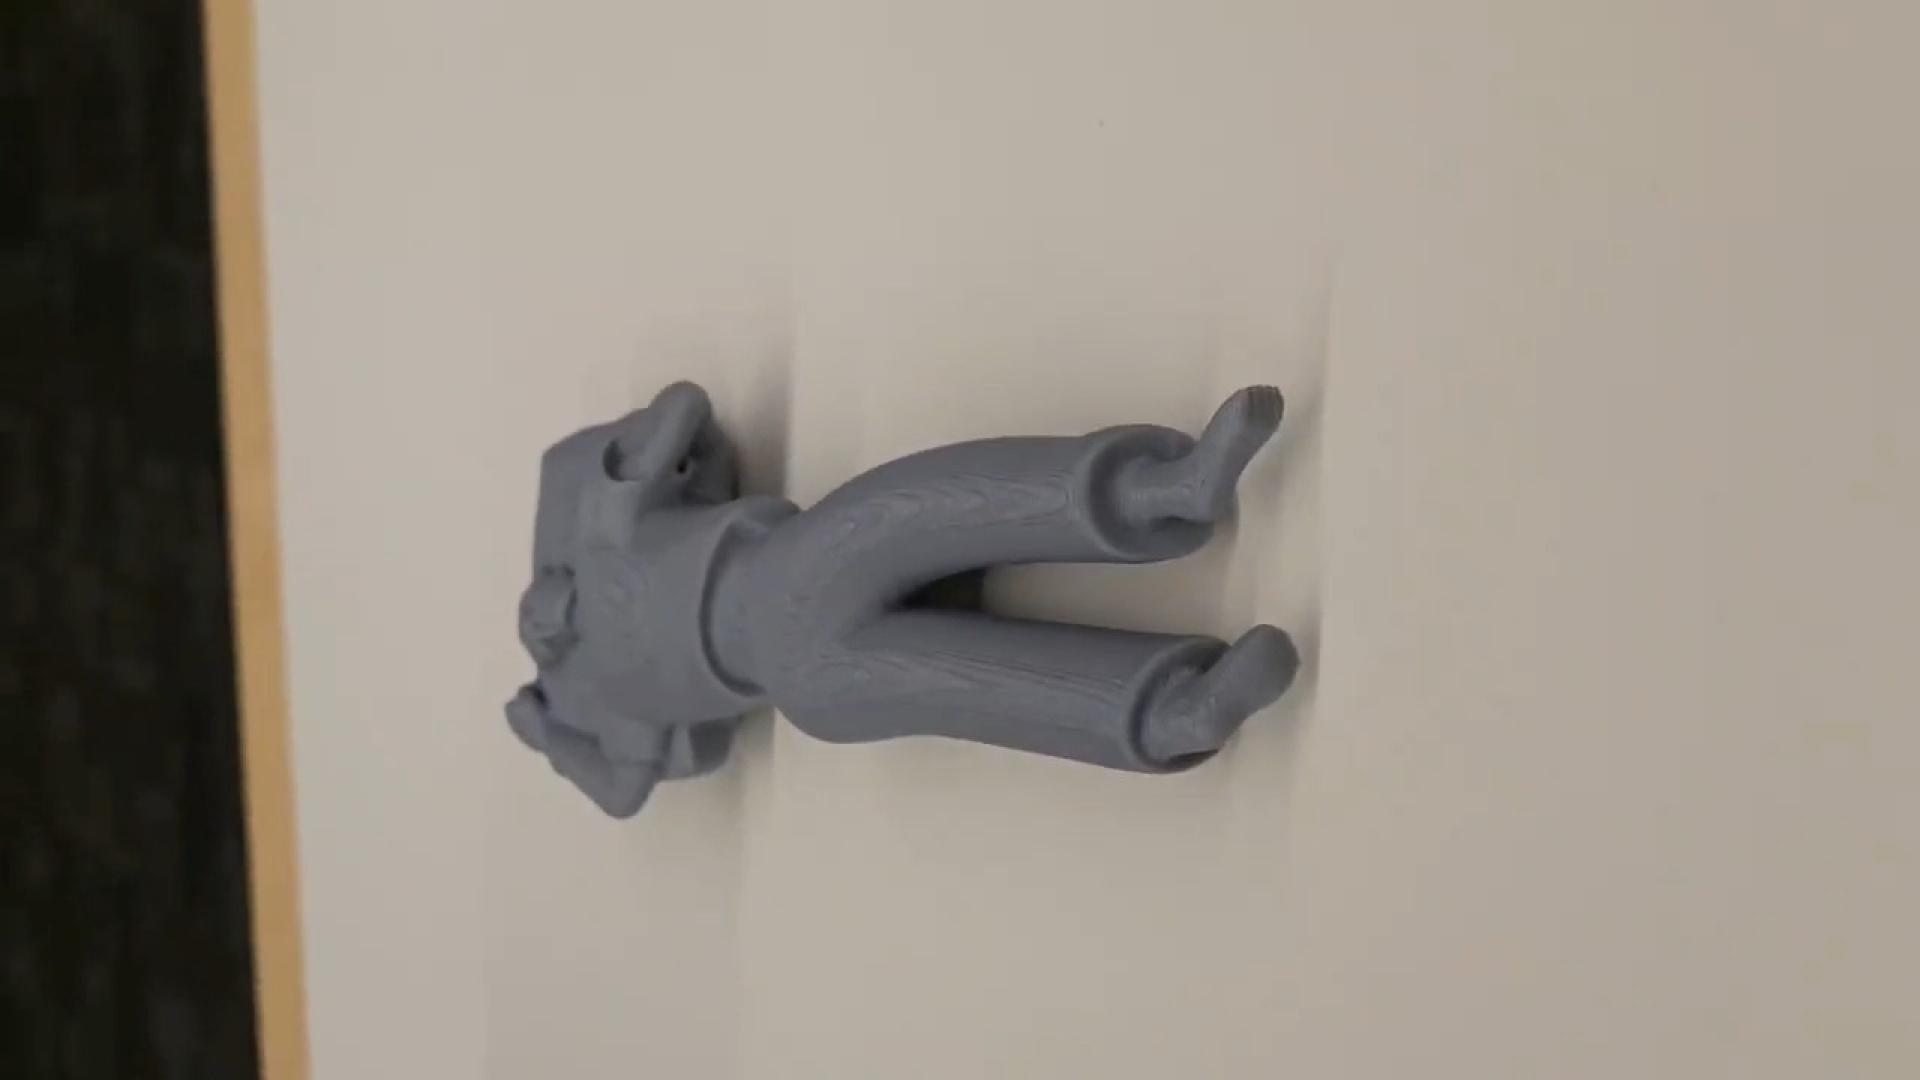Bad-style: (516, 373, 1303, 839)
